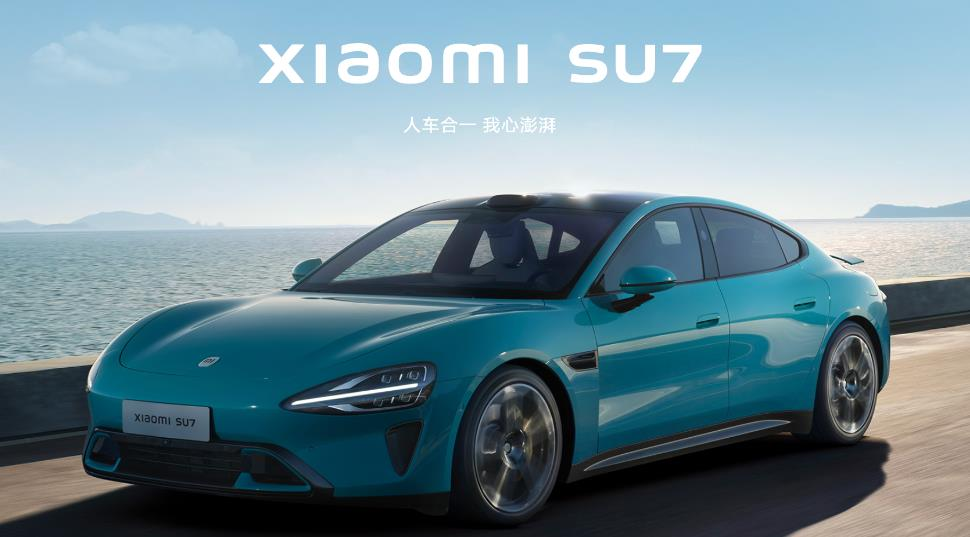su7: (74, 181, 901, 524)
